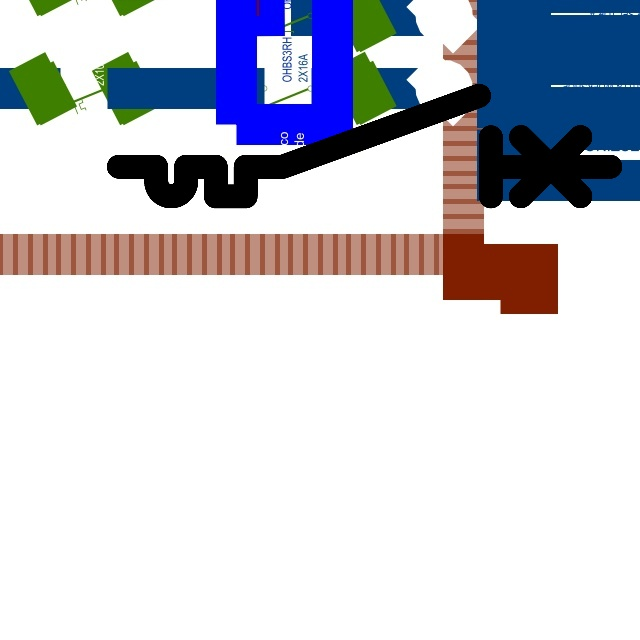interruptor_termomagnetico: (106, 83, 623, 209)
